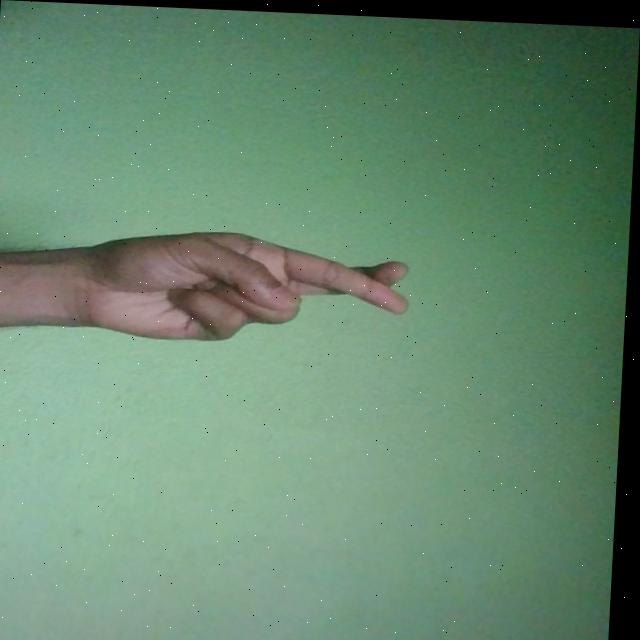Good Luck: (71, 223, 412, 347)
